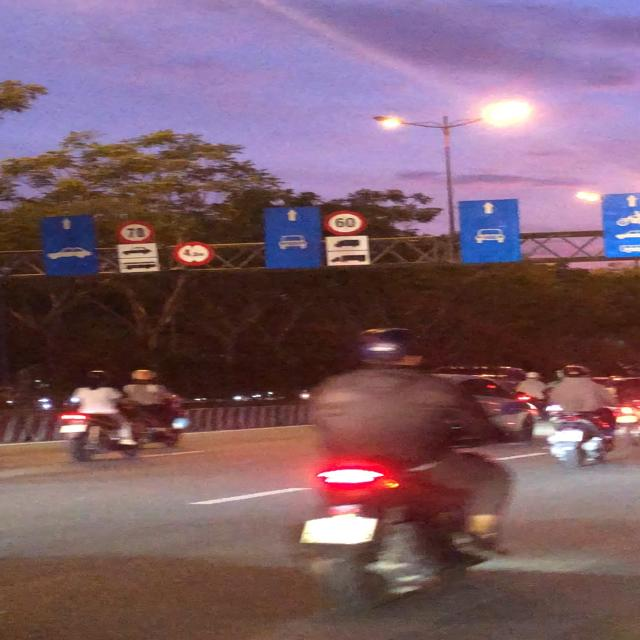Bien bao han che chieu cao: (170, 238, 220, 266), (114, 220, 155, 245)
Bien bao toc do toi da cho phep: (317, 208, 366, 240)
